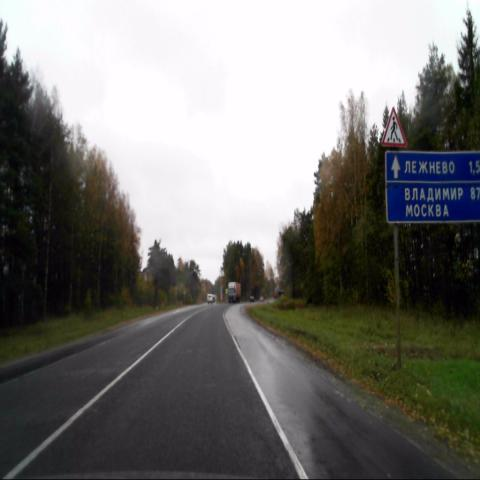1_22: (380, 105, 406, 147)
